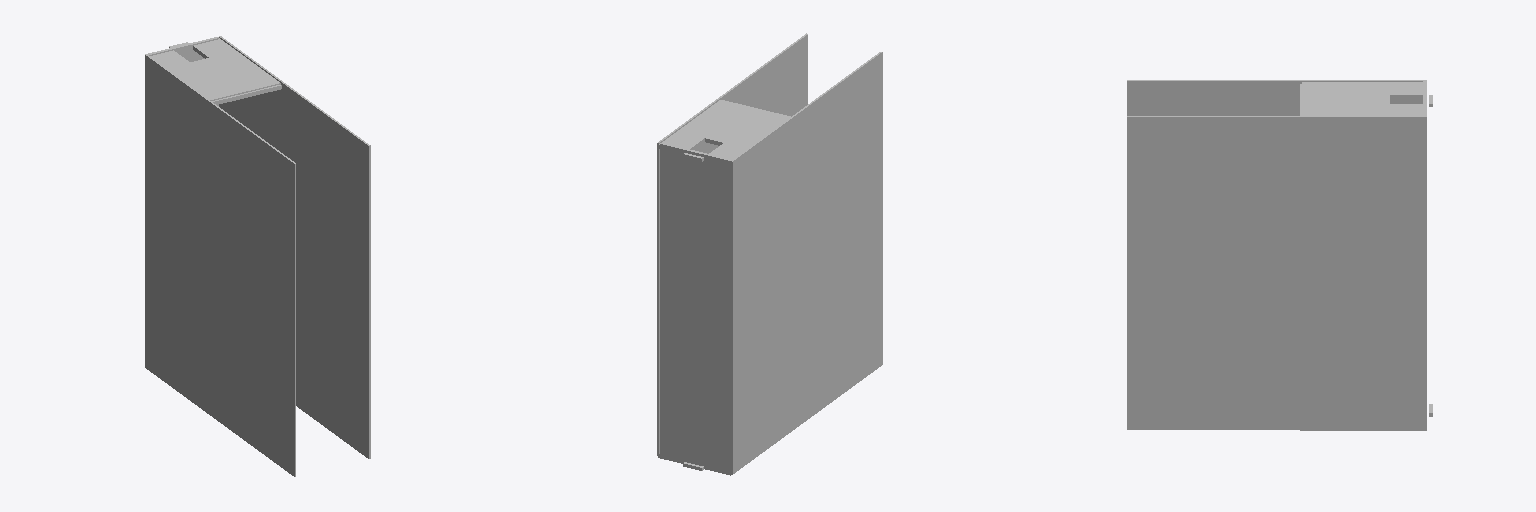
The model's file is room.obj.
3 renders of one model, left to right at view 1: azimuth 30°, elevation 25°; view 2: azimuth 150°, elevation 25°; view 3: azimuth 270°, elevation 25°, orthographic.
Visible parts, largest first — view 1: obj_4; view 2: obj_4, obj_1; view 3: obj_4.
Boxes of the visible parts, x1,y1,x2,y2 form: obj_4: [145, 36, 370, 476]; obj_4: [657, 33, 882, 475]; obj_1: [660, 143, 731, 473]; obj_4: [1127, 80, 1426, 430].
Size of the model in its own units: 120 by 475 by 419.